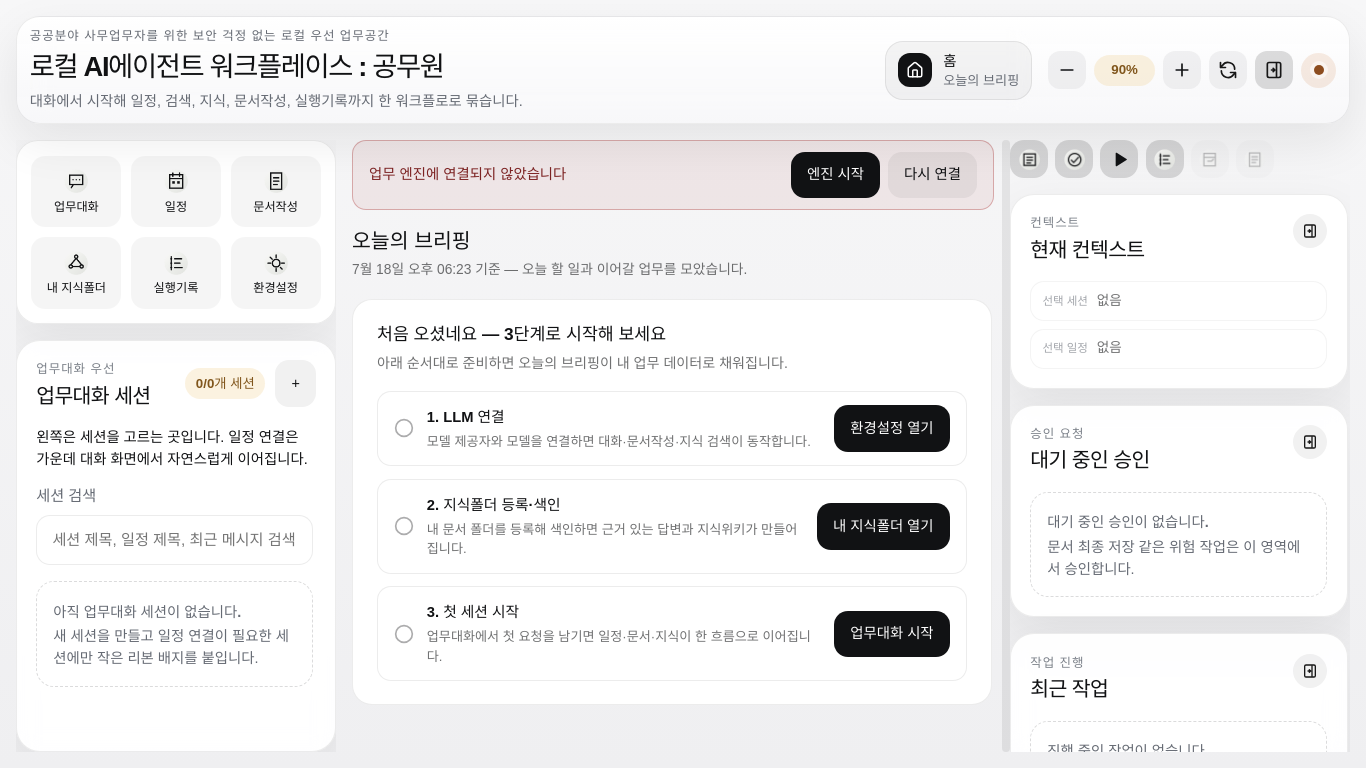
Test: topic vocabulary pack import and candidate queue (vocab spec §5·§6) › imports an institution pack from the settings tab, shows applied info, and removes it (§5)
Click the button "내 지식폴더" at (76, 273), box [31,237,121,309]
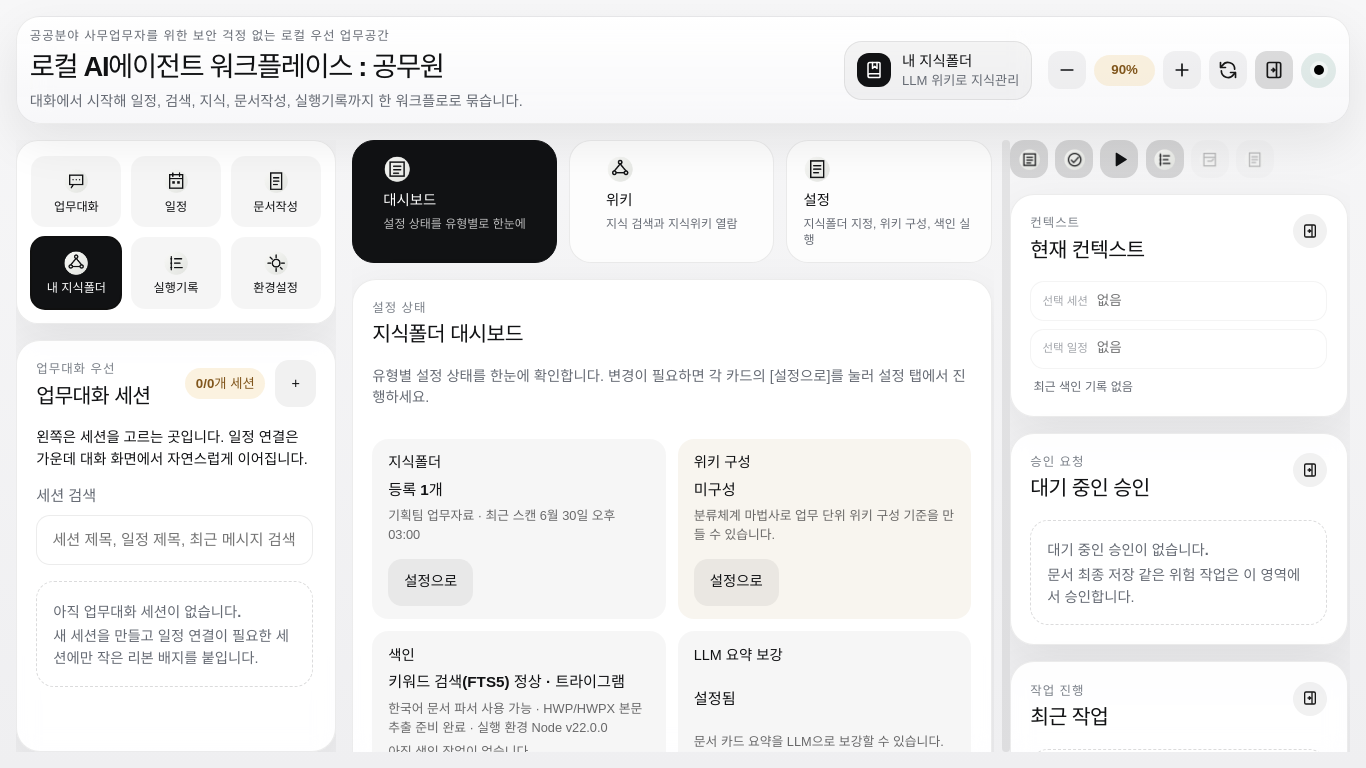
Click the tab "설정 지식폴더 지정, 위키 구성, 색인 실행" at (889, 201), box [786,140,992,263]
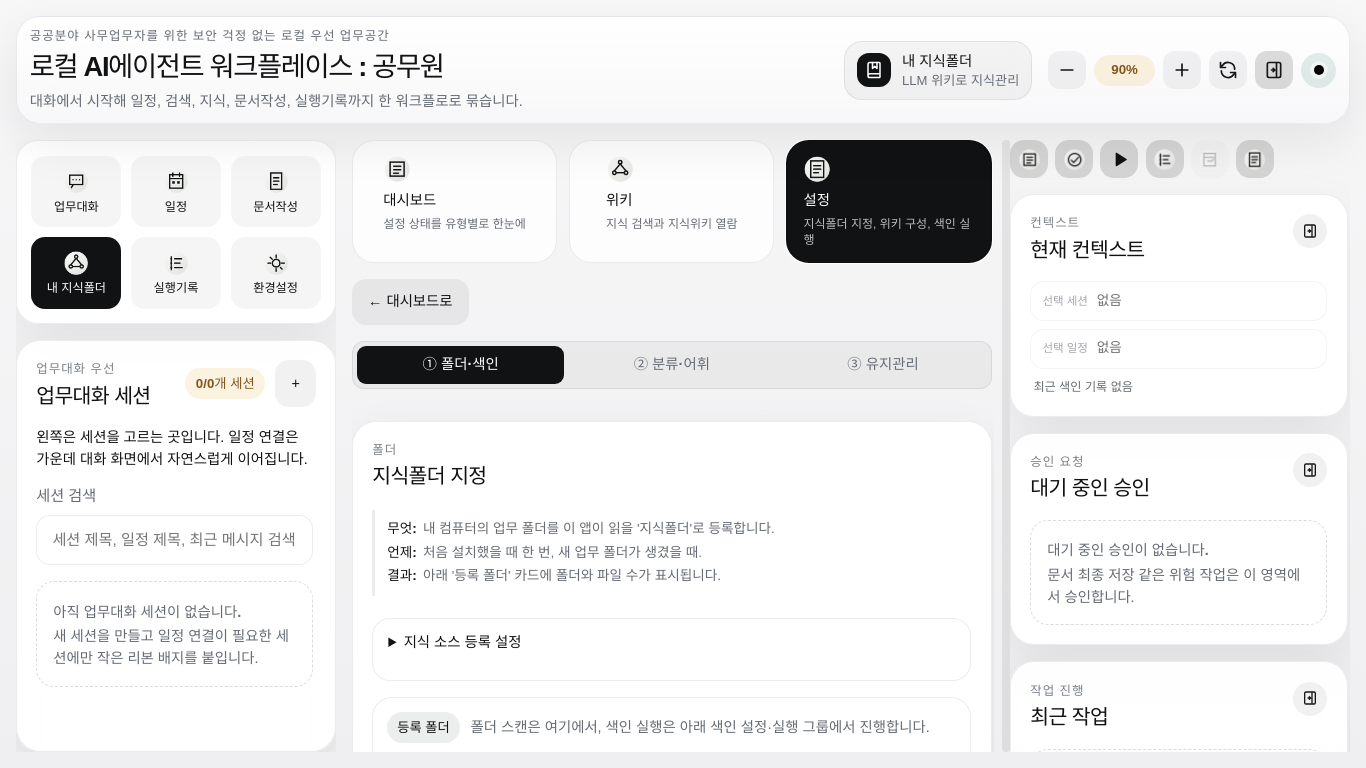
Click the button with test id "knowledge-settings-nav-taxonomy" at (672, 365), box [568,346,775,384]
(page scrolled)
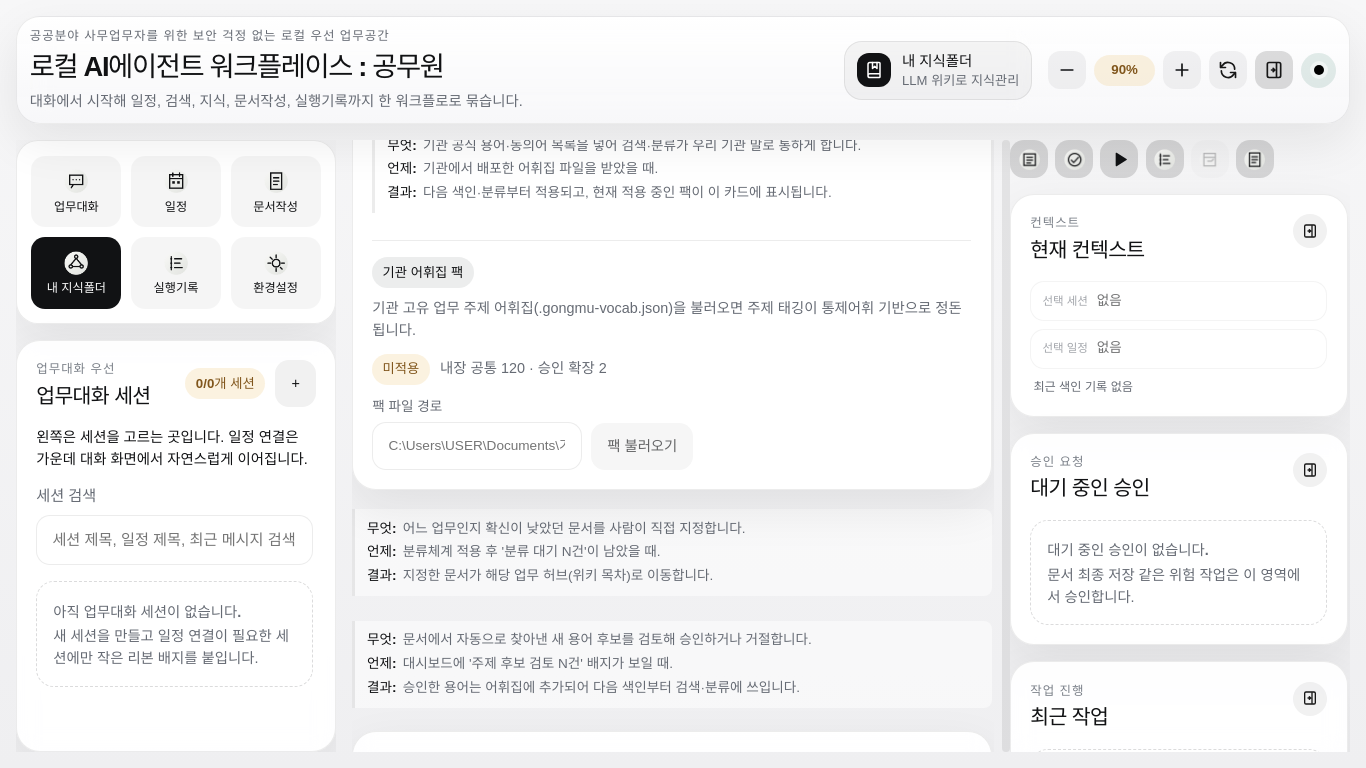
expect the button "팩 제거" is not shown: met
expect the element with test id "knowledge-vocab-pack-status" shows "미적용": met, box [383,361,419,376]
Type "C:/Docs/기관팩.gongmu-vocab.json" into the field labelled "팩 파일 경로" at (477, 446), box [372,422,582,470]
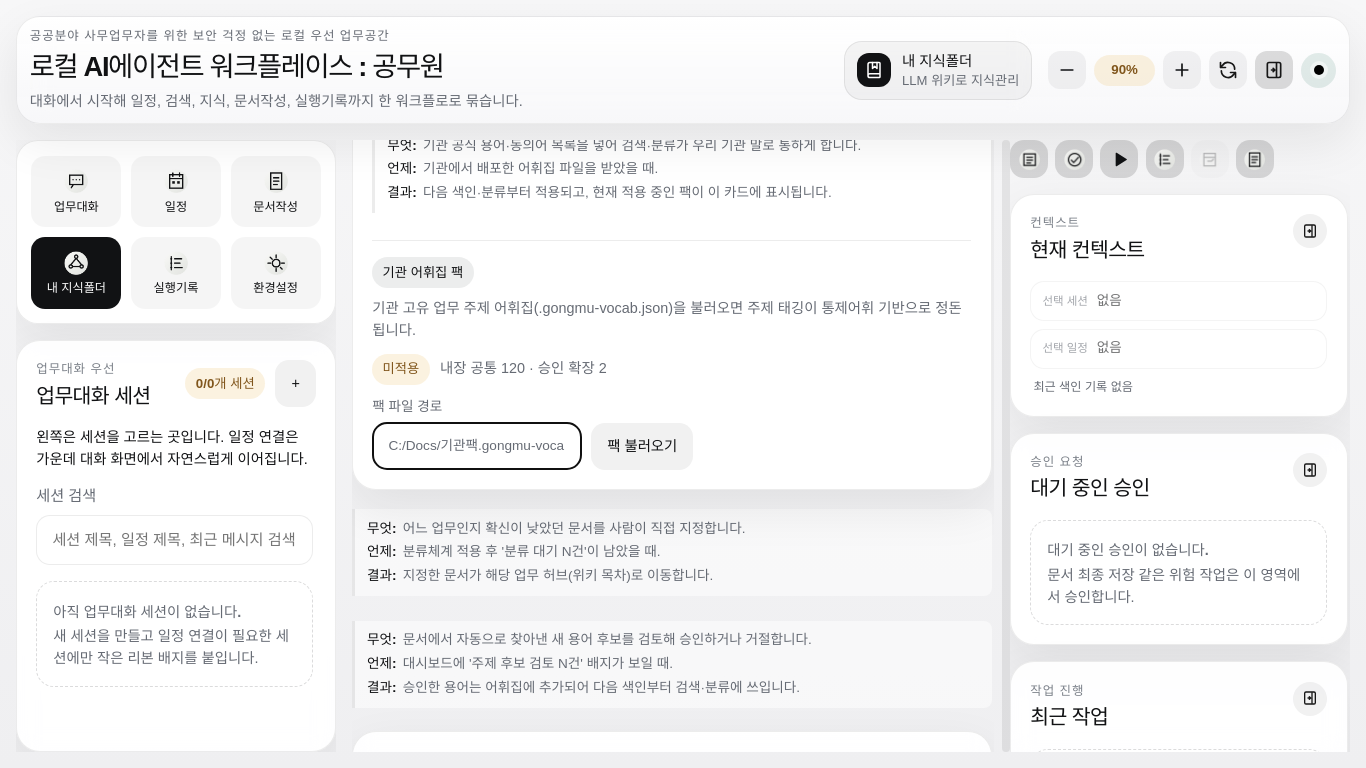
Click the button "팩 불러오기" at (642, 447), box [591,423,693,470]
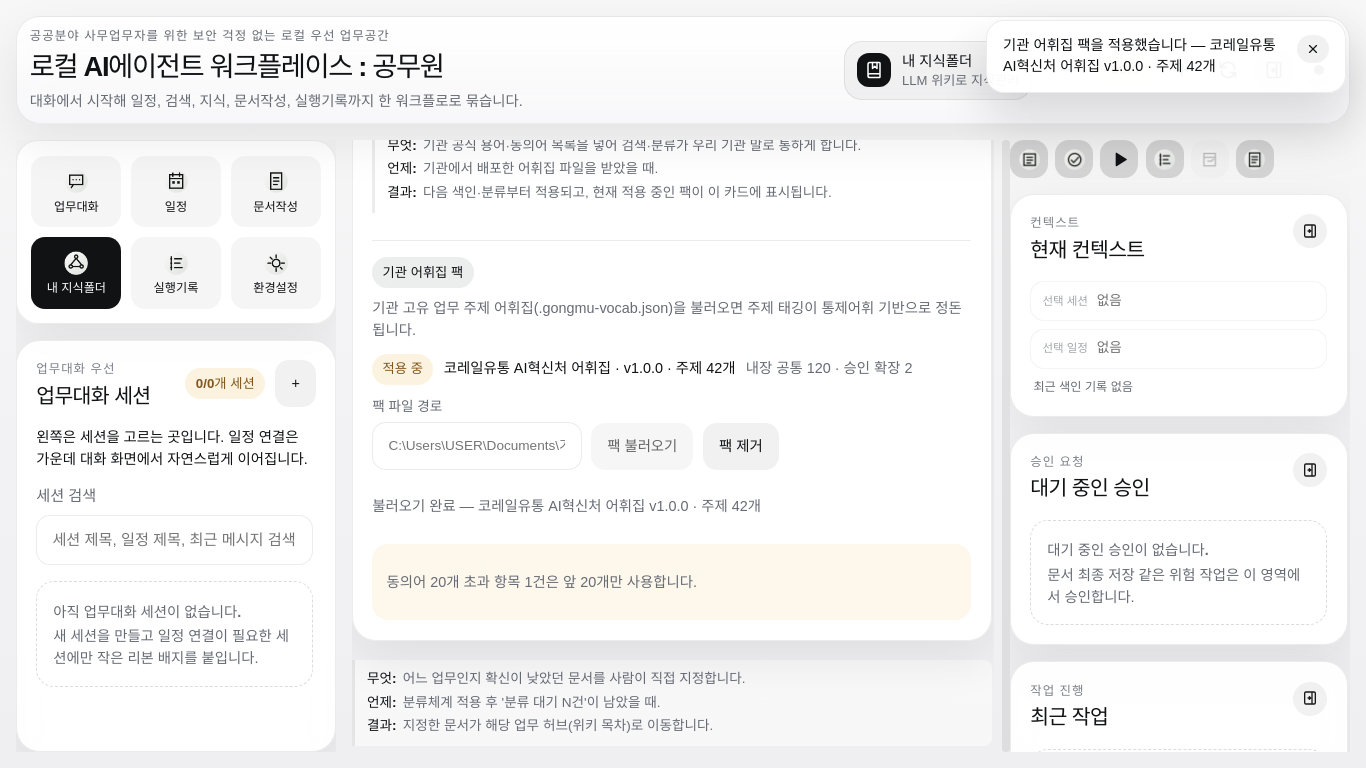
expect the text with test id "knowledge-vocab-import-result" reads "불러오기 완료 — 코레일유통 AI혁신처 어휘집 v1.0.0 · 주제 42개": met, box [372,498,761,514]
expect the element with test id "knowledge-vocab-import-warnings" reads "동의어 20개 초과 항목 1건은 앞 20개만 사용합니다.": met, box [387,574,697,590]
expect the element with test id "knowledge-vocab-pack-status" shows "코레일유통 AI혁신처 어휘집 · v1.0.0 · 주제 42개": met, box [372,354,971,385]
Click the button "팩 제거" at (741, 447), box [703,423,779,470]
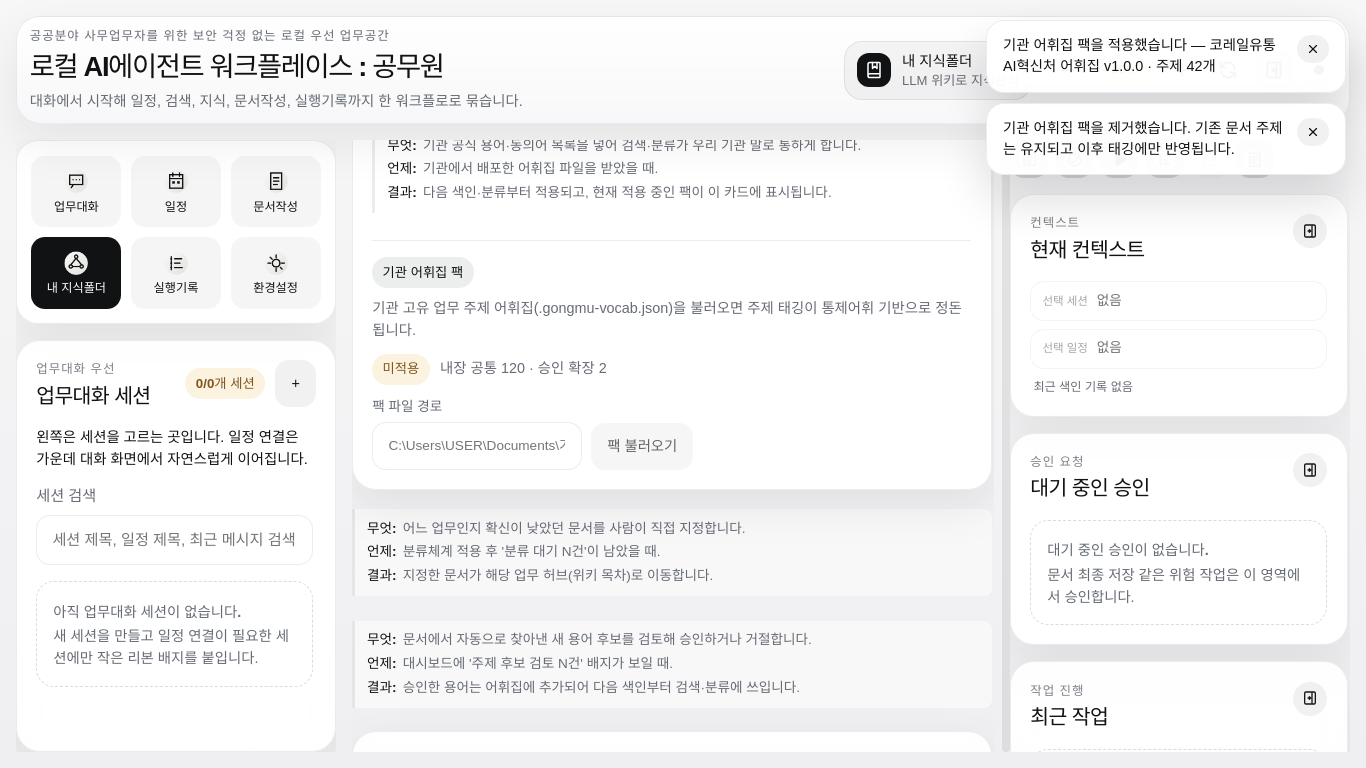
expect the element with test id "knowledge-vocab-pack-status" shows "미적용": met, box [383,361,419,376]
expect the text "기관 어휘집 팩을 제거했습니다. 기존 문서 주제는 유지되고 이후 태깅에만 반영됩니다." is shown: met, box [1003,118,1285,160]
